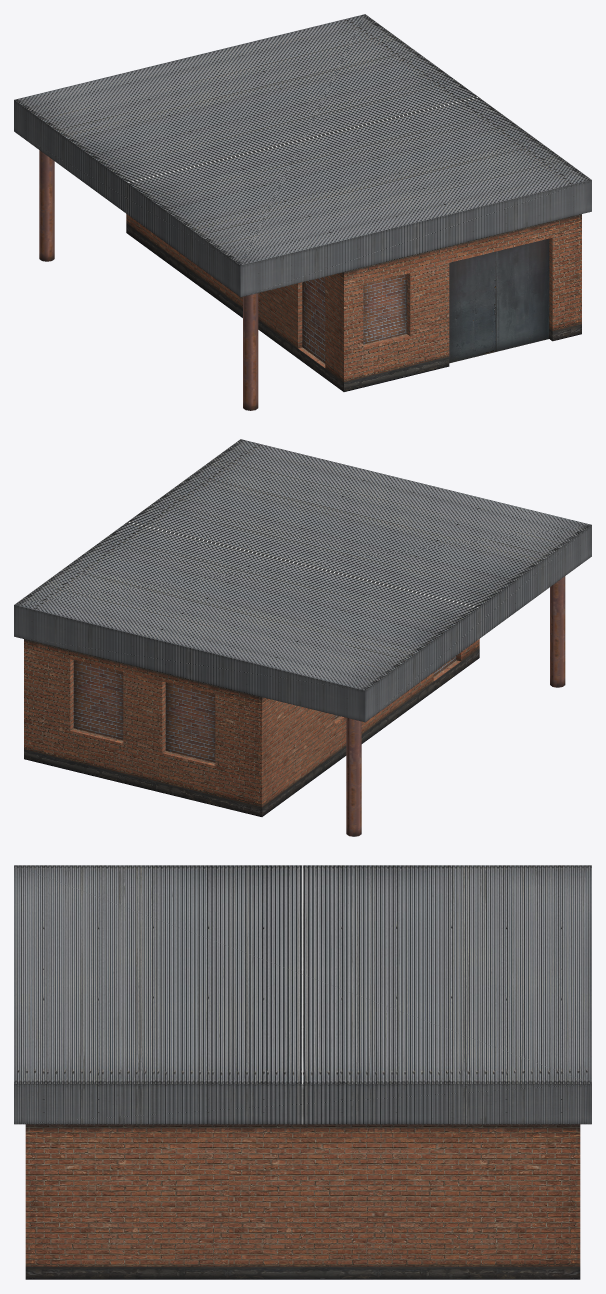
The model's file is r254_old_dps.FBX.
3 renders of one model, top to bottom at view 1: azimuth 30°, elevation 25°; view 2: azimuth 150°, elevation 25°; view 3: azimuth 270°, elevation 25°, orthographic. The views are drawn at different scales.
Parts seen in each view (by area): view 1: r254_old_dps; view 2: r254_old_dps; view 3: r254_old_dps.
Part boxes in pixels (x1,y1,x2,y2): r254_old_dps: (14,14,591,410); r254_old_dps: (14,439,591,836); r254_old_dps: (14,865,591,1279).
Size of the model in its own units: 7.38 by 8.24 by 3.13.
